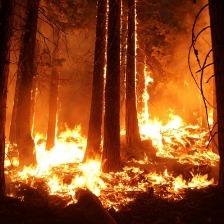incendio: (1, 88, 222, 209), (83, 9, 171, 147)
